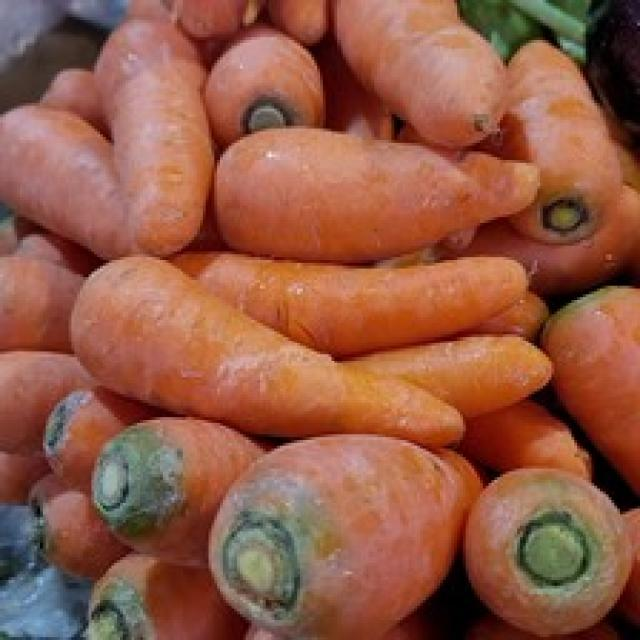Fresh_Carrot: (69, 251, 422, 439), (221, 136, 508, 234), (96, 23, 208, 244)
